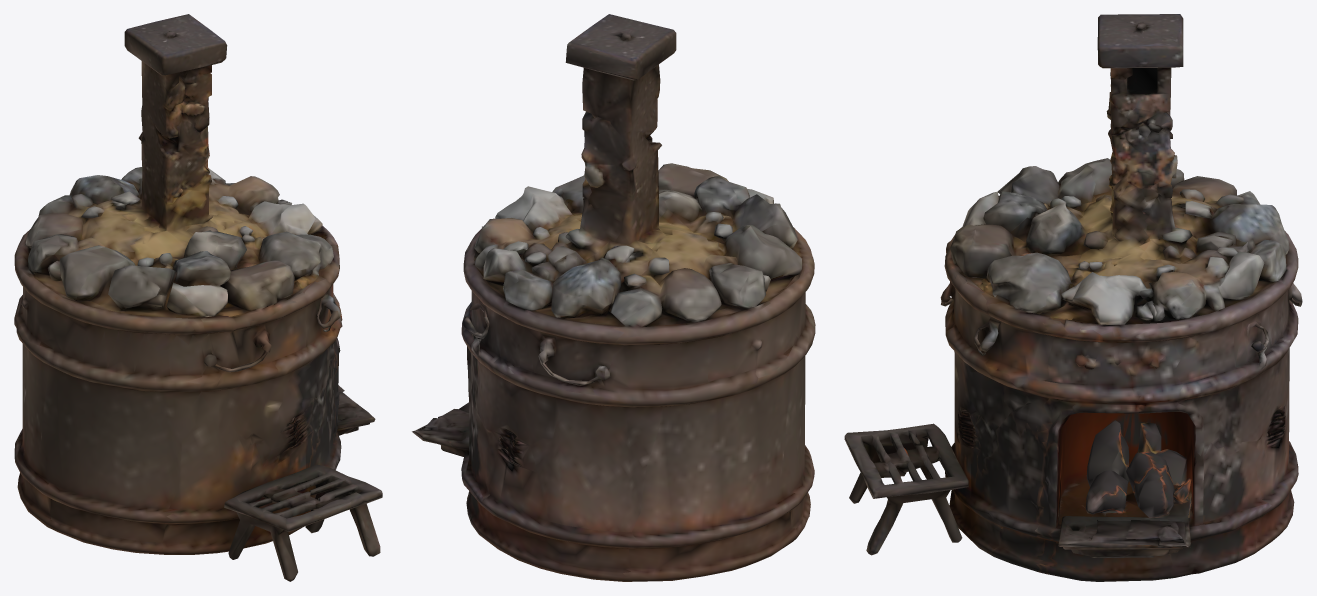
The model's file is forge_hf.c0eba5be59.glb.
3 renders of one model, left to right at view 1: azimuth 30°, elevation 25°; view 2: azimuth 150°, elevation 25°; view 3: azimuth 270°, elevation 25°, orthographic. The views are drawn at different scales.
Parts seen in each view (by area): view 1: forge_hf; view 2: forge_hf; view 3: forge_hf.
Part boxes in pixels (<box>): forge_hf: <box>14,14,382,581</box>; forge_hf: <box>412,14,815,581</box>; forge_hf: <box>844,14,1302,581</box>.
Size of the model in its own units: 0.9726 by 1.3 by 1.11.
Materials: 1 (1 with a texture image).
